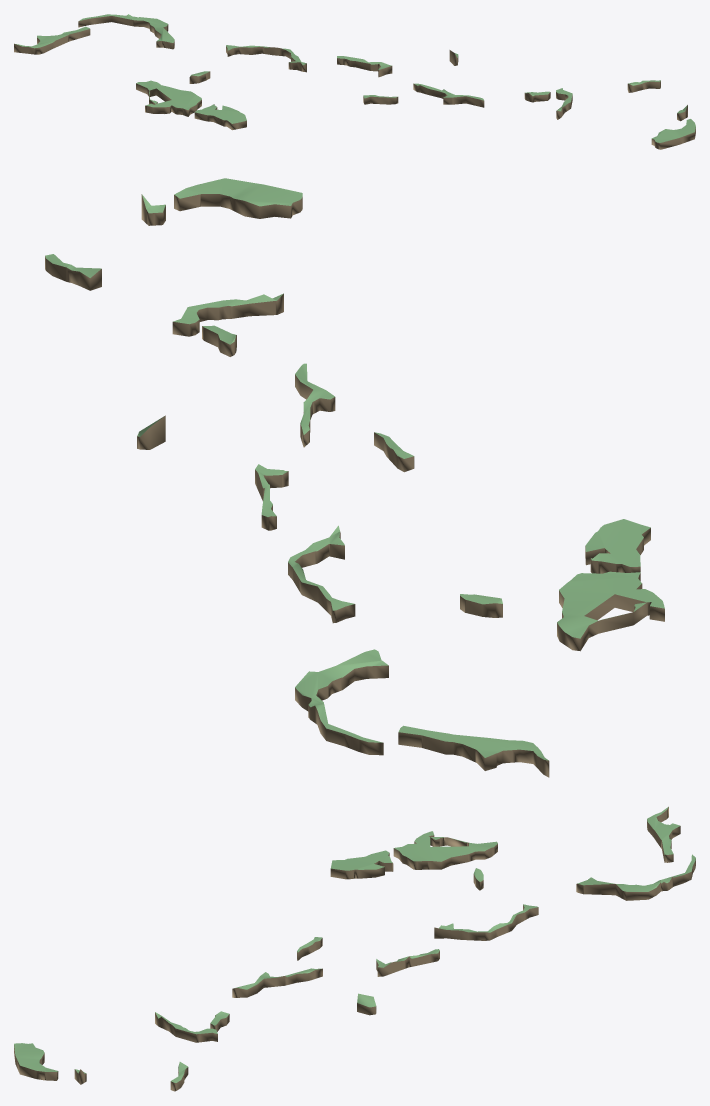
Rendered from BHS.glb.
The picture shows the model from 3 angles, top to bottom: view 1: azimuth 30°, elevation 25°; view 2: azimuth 150°, elevation 25°; view 3: azimuth 270°, elevation 25°; orthographic projection. The views are drawn at different scales.
Visible parts, largest first — view 1: BHS; view 2: BHS; view 3: BHS.
Part boxes in pixels (x1=…): BHS: x1=14, y1=14, x2=695, y2=149; BHS: x1=45, y1=178, x2=664, y2=777; BHS: x1=14, y1=806, x2=695, y2=1091.
Bounding box in the file's own units: 1.35 × 0.0378 × 1.42.
